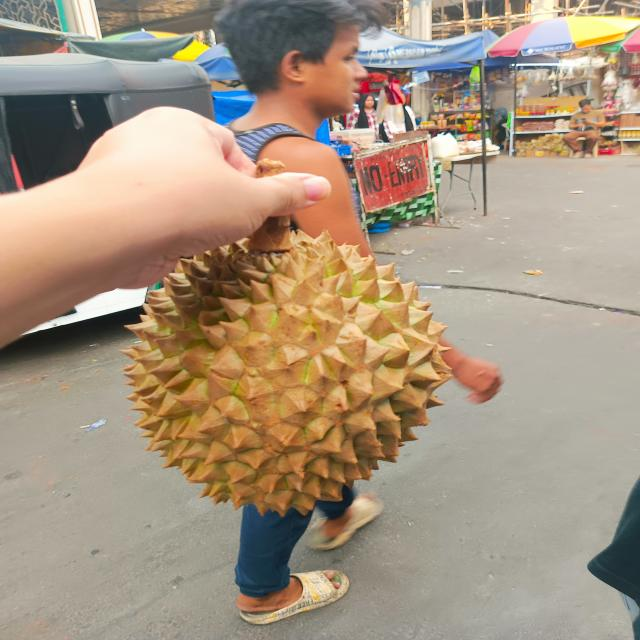mature: (119, 226, 451, 518)
